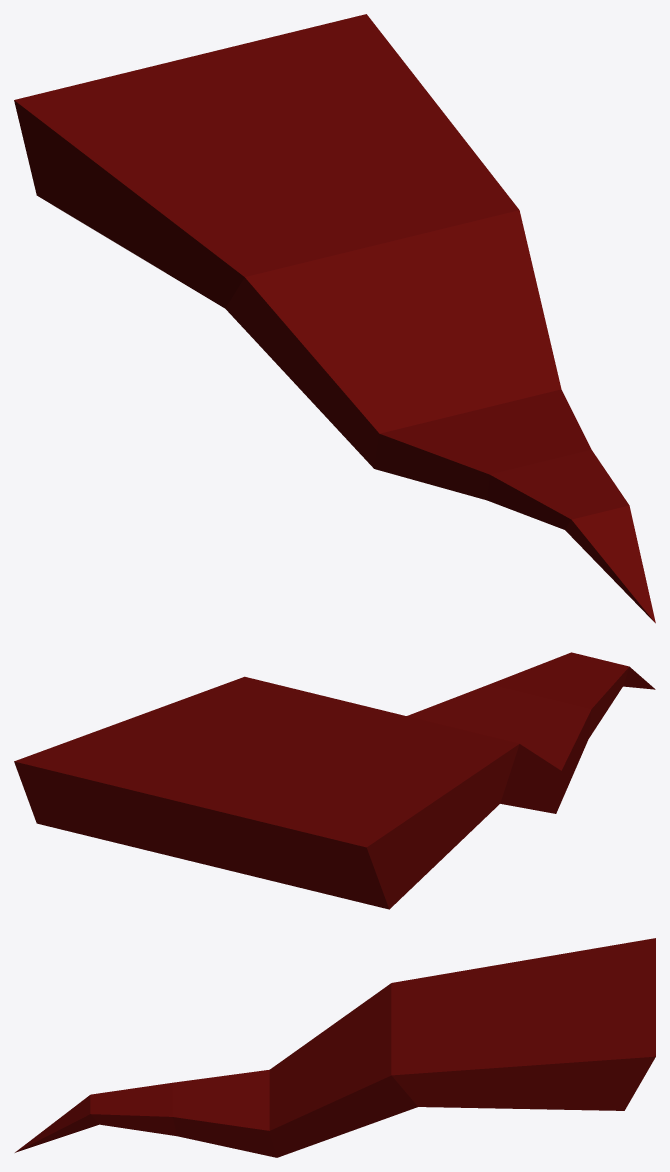
File: dil.fbx
3 renders of one model, top to bottom at view 1: azimuth 30°, elevation 25°; view 2: azimuth 150°, elevation 25°; view 3: azimuth 270°, elevation 25°, orthographic. The views are drawn at different scales.
Visible parts, largest first — view 1: Cube.004; view 2: Cube.004; view 3: Cube.004.
Boxes of the visible parts, bbox=[...] form: Cube.004: bbox=[14, 14, 655, 623]; Cube.004: bbox=[14, 652, 655, 909]; Cube.004: bbox=[15, 938, 655, 1157].
Size of the model in its own units: 149 by 91.21 by 340.
